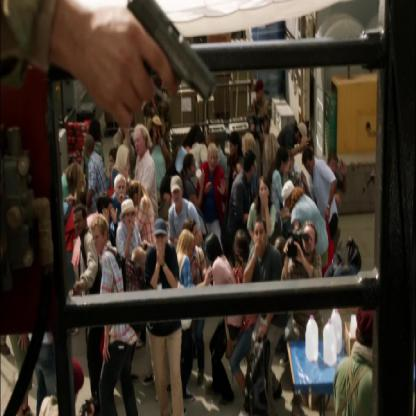Guns: (124, 0, 216, 112)
